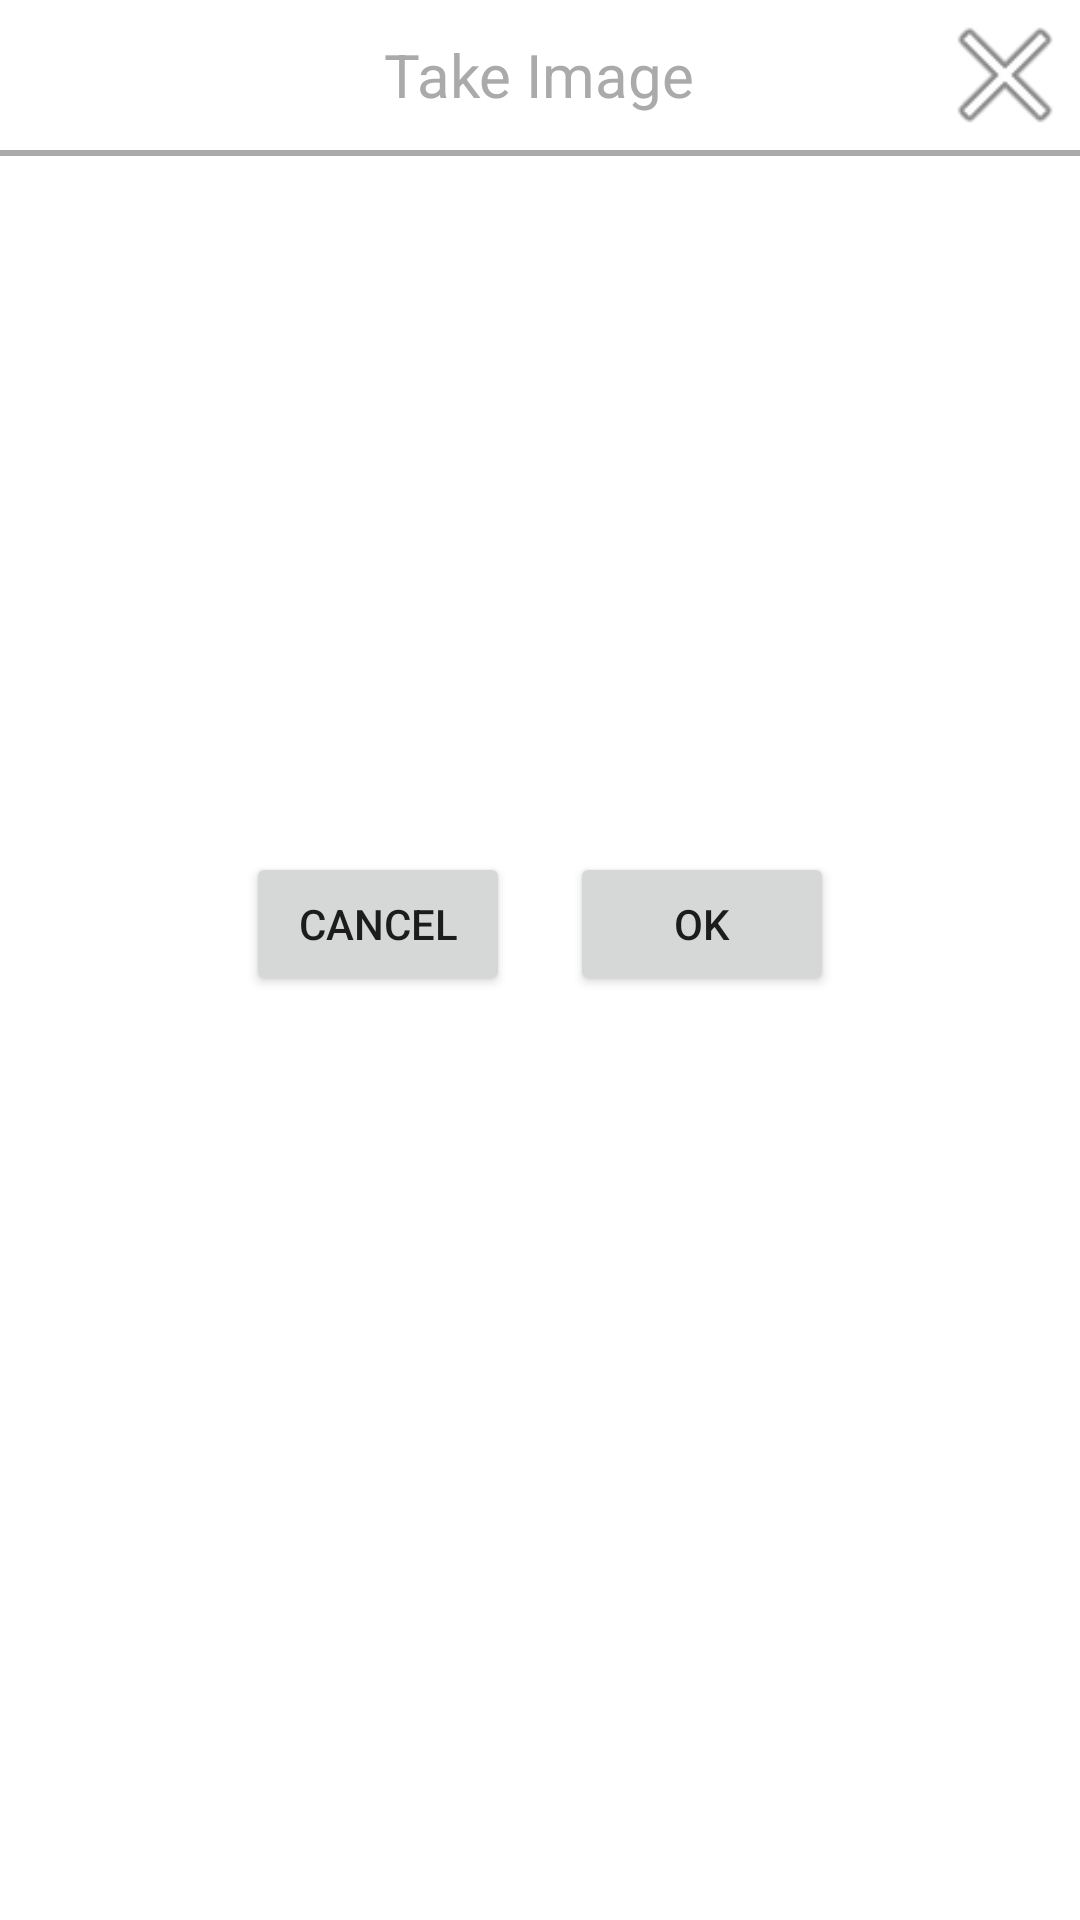

Icon bounding boxes for this 1080px×1920px phone screenshot, format region(x1, y1, x2, y2):
close clear cancel: region(958, 28, 1052, 122)
